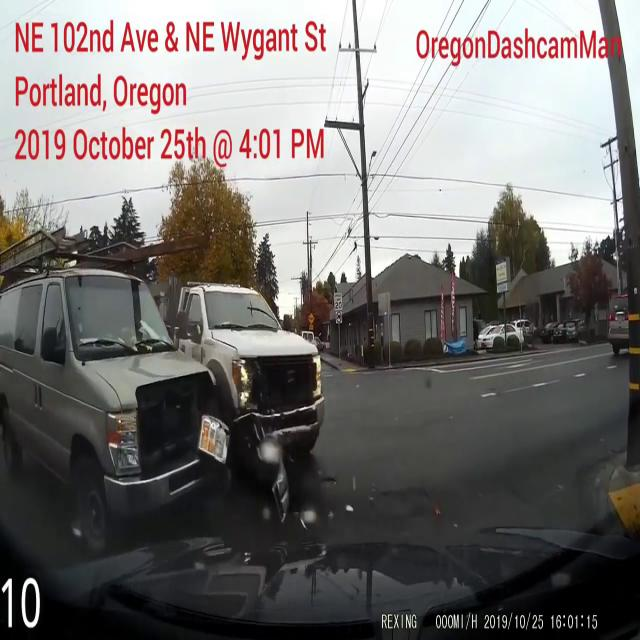accident: (37, 278, 336, 516)
